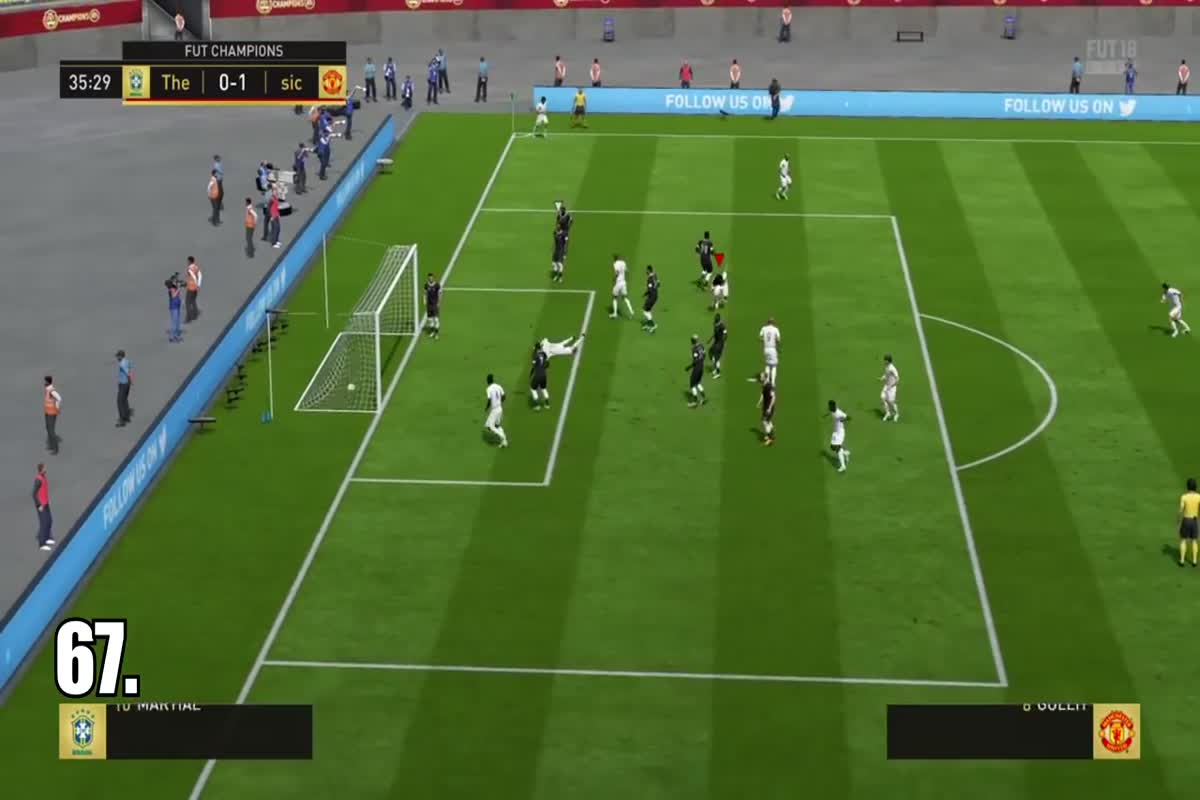ball: (336, 372, 365, 397)
